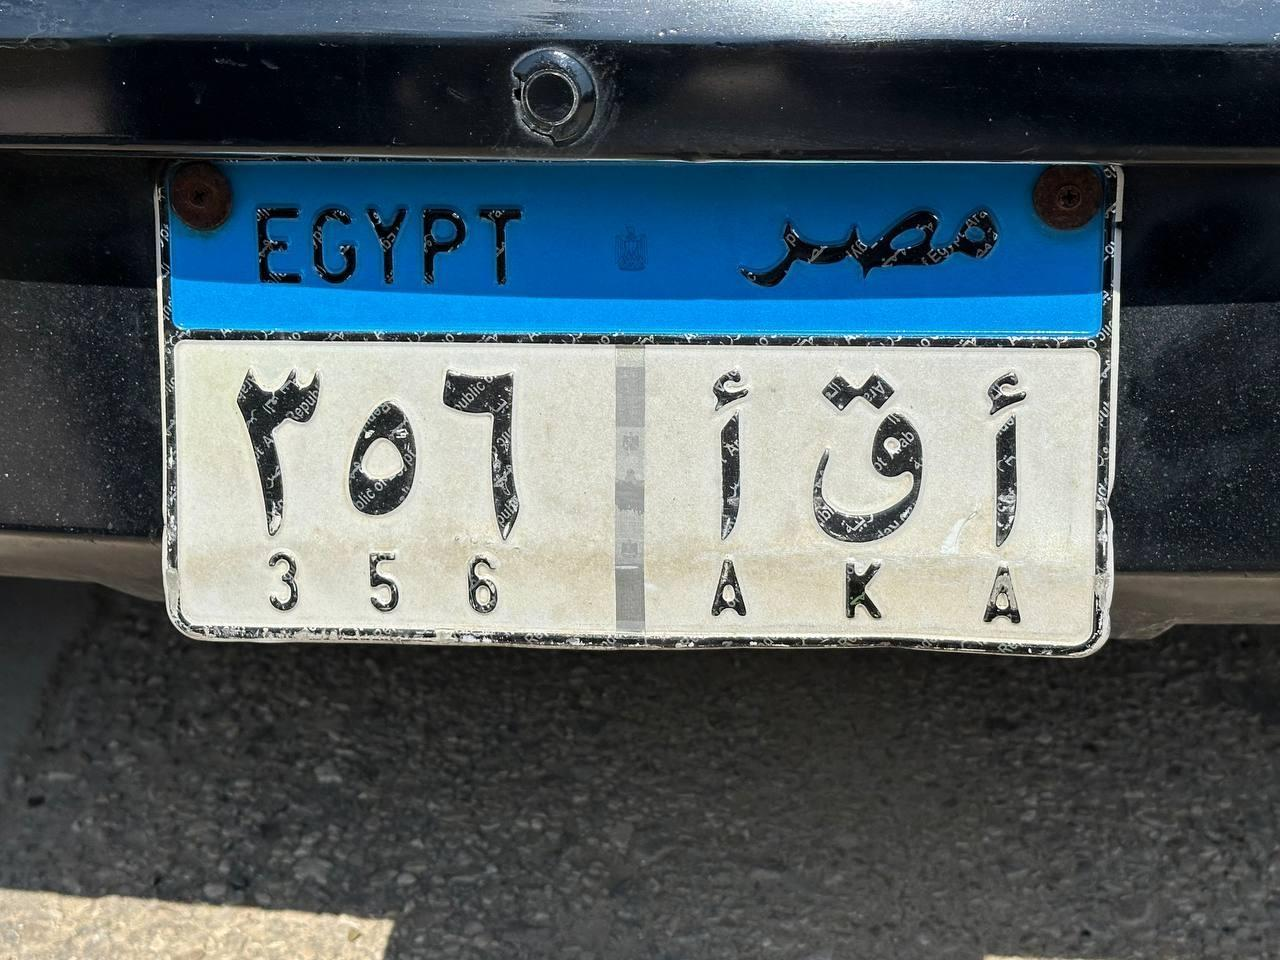3: (231, 367, 316, 542)
5: (338, 392, 424, 530)
6: (428, 362, 522, 542)
License Plate: (152, 154, 1127, 658)
Q: (776, 368, 927, 556)
alef: (976, 369, 1036, 548), (703, 366, 750, 556)
